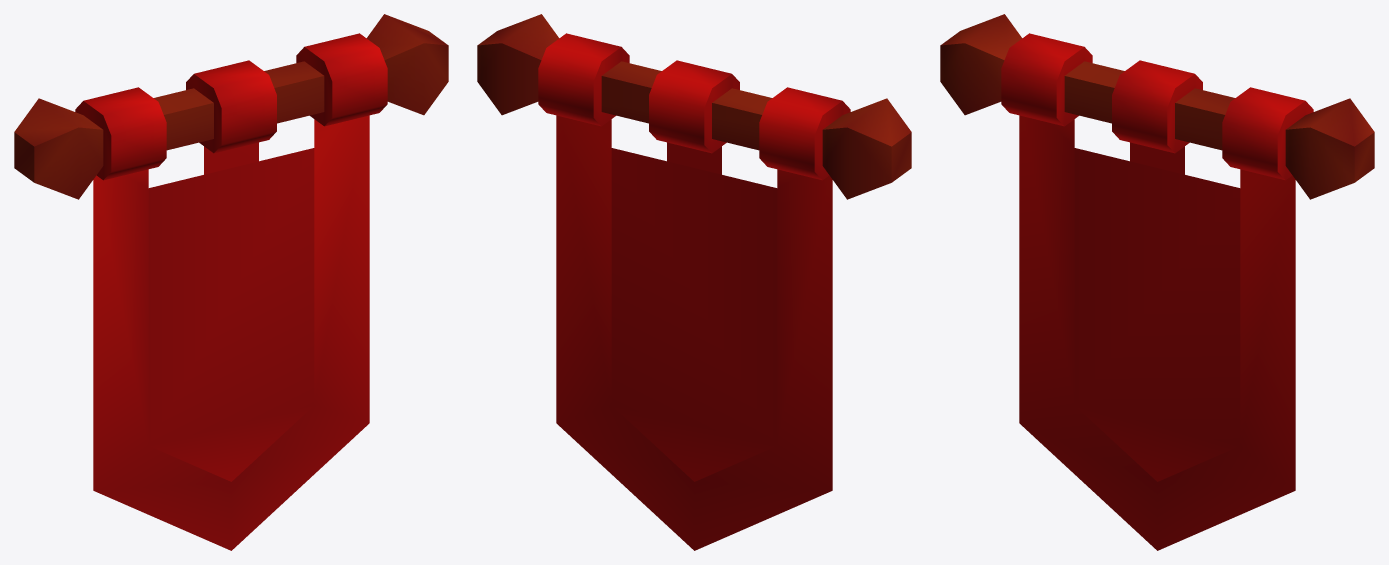
The model's file is banner.obj.
3 renders of one model, left to right at view 1: azimuth 30°, elevation 25°; view 2: azimuth 150°, elevation 25°; view 3: azimuth 330°, elevation 25°, orthographic.
Visible parts, largest first — view 1: banner; view 2: banner; view 3: banner.
Boxes of the visible parts, x1,y1,x2,y2 form: banner: (14, 14, 448, 550); banner: (477, 14, 911, 550); banner: (940, 14, 1374, 550).
Size of the model in its own units: 0.6 by 0.6644 by 0.1.
